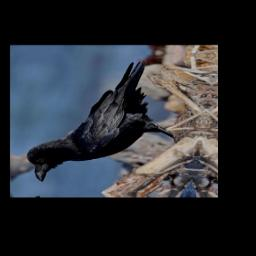Crow: (21, 53, 197, 189)
